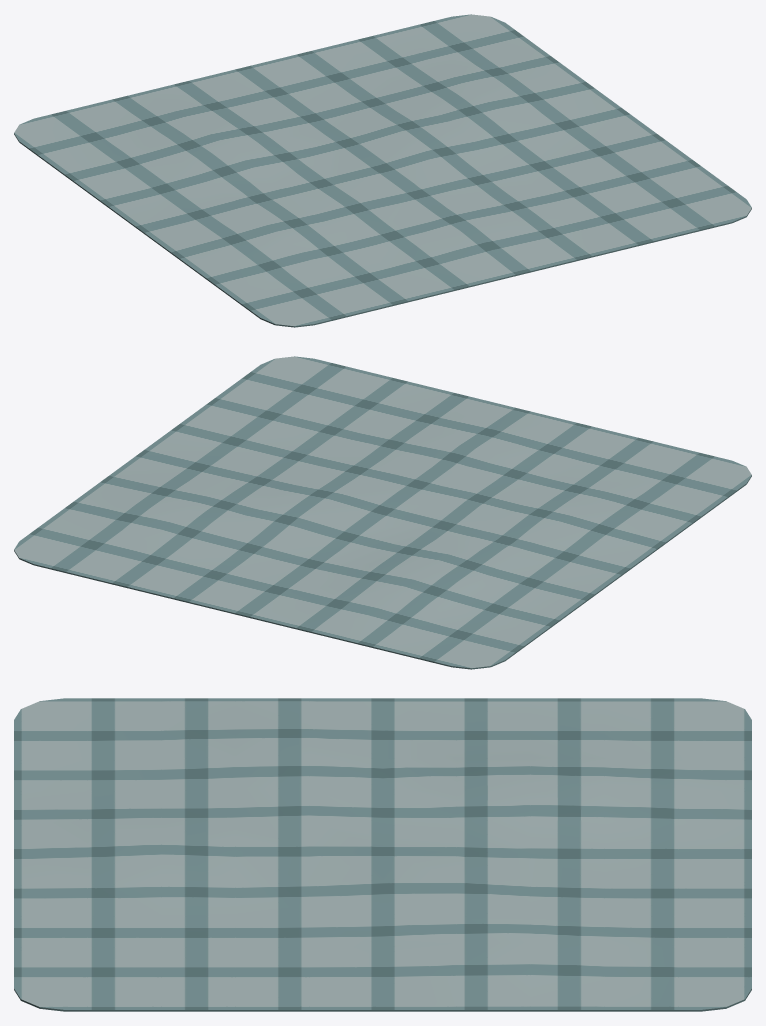
File: picnicRug.fbx
The picture shows the model from 3 angles, top to bottom: view 1: azimuth 30°, elevation 25°; view 2: azimuth 150°, elevation 25°; view 3: azimuth 270°, elevation 25°; orthographic projection. The views are drawn at different scales.
Visible parts, largest first — view 1: picnicRug; view 2: picnicRug; view 3: picnicRug.
Boxes of the visible parts, box(x1,y1,x2,y2) form: picnicRug: box(14, 14, 751, 327); picnicRug: box(14, 356, 751, 669); picnicRug: box(14, 698, 751, 1011).
Size of the model in its own units: 250 by 3.36 by 250.
